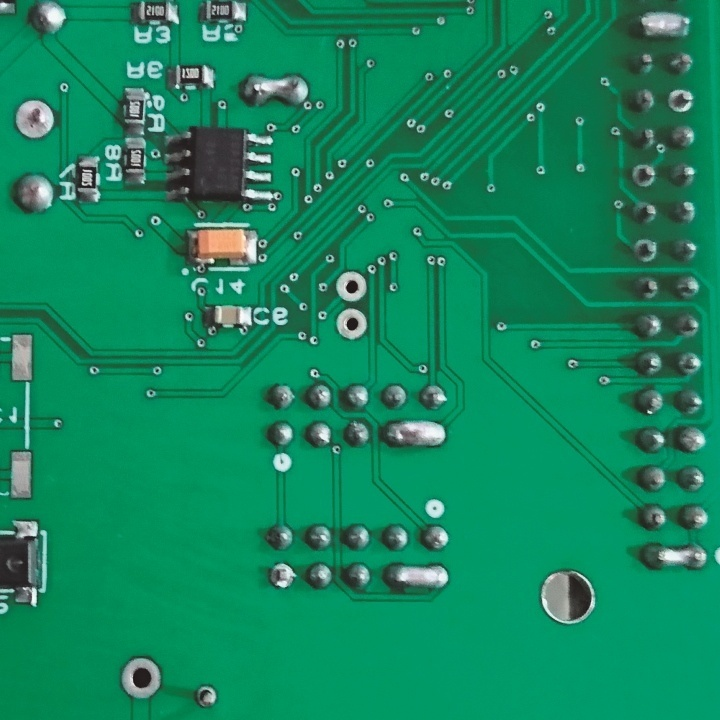F: (113, 654, 164, 700), (13, 98, 58, 141), (333, 308, 369, 342), (267, 558, 299, 596), (334, 270, 367, 305), (190, 680, 220, 712), (668, 86, 695, 115), (633, 236, 659, 265), (631, 163, 658, 186)
P: (379, 416, 448, 455), (239, 73, 313, 109), (630, 8, 695, 43), (381, 561, 452, 593), (639, 540, 710, 572)
